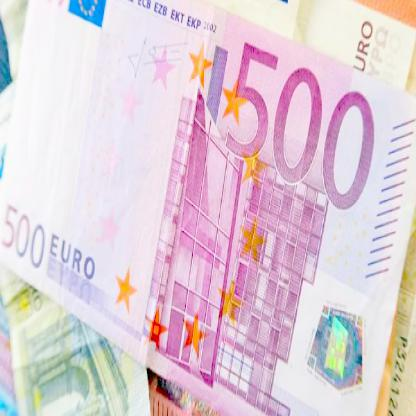euro_banknote: (25, 28, 393, 390)
